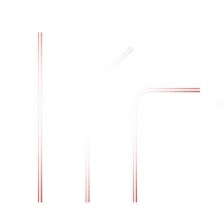drinking_straw: (69, 42, 138, 204), (124, 82, 203, 205), (28, 26, 52, 206)
